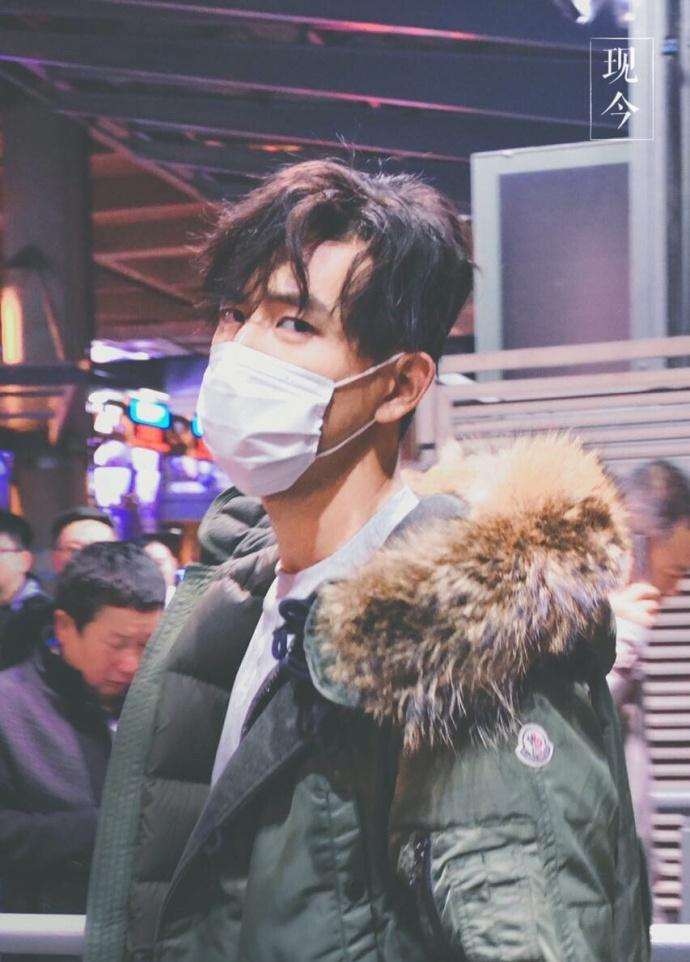NONE: (87, 616, 164, 696)
OK: (198, 295, 398, 495)
